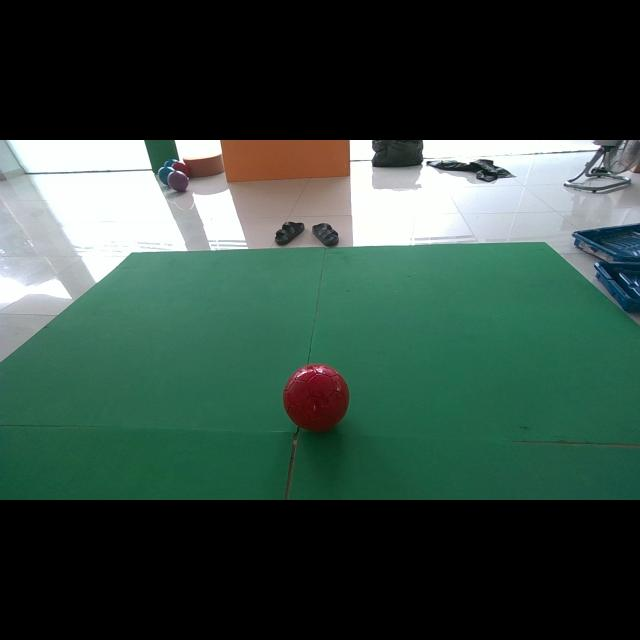B: (158, 166, 175, 184)
P: (168, 170, 189, 191)
R: (282, 364, 349, 431), (171, 161, 190, 176)
